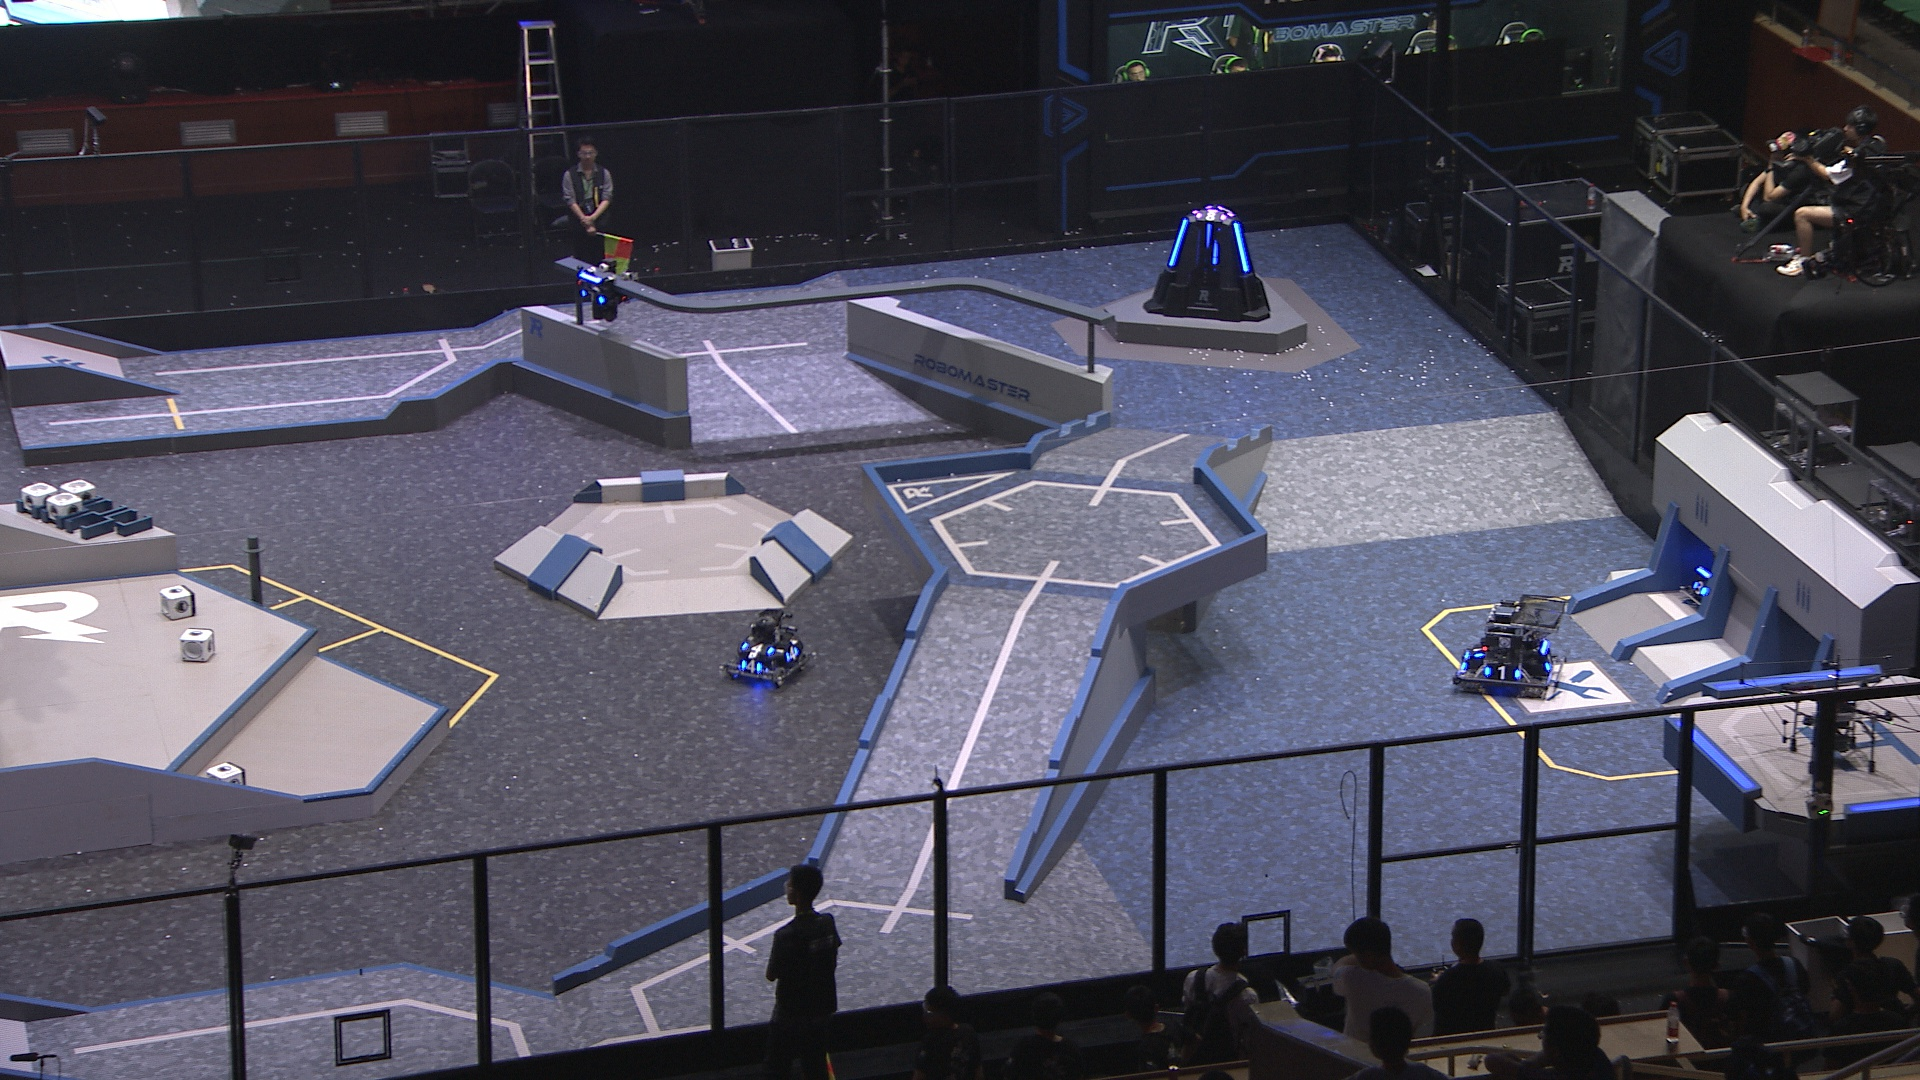armor: (1167, 216, 1189, 268), (1232, 222, 1251, 270), (1484, 665, 1522, 680), (741, 640, 774, 655), (578, 287, 604, 305), (741, 659, 764, 676), (1692, 579, 1708, 597), (783, 645, 799, 662), (1472, 644, 1486, 661), (1544, 650, 1556, 669), (1205, 219, 1211, 245)
base: (1138, 196, 1273, 324)
car: (1448, 589, 1572, 700), (721, 611, 812, 684), (1676, 541, 1747, 626)
ignore: (1193, 207, 1230, 224)
watcher: (576, 257, 632, 323)
